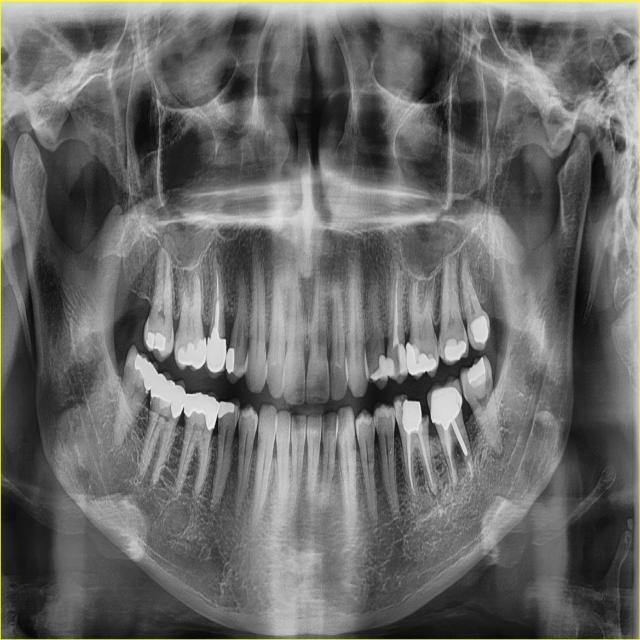Caries: (399, 394, 406, 409), (422, 415, 428, 424)
Crown: (427, 376, 463, 428), (205, 337, 227, 379)
Filling: (151, 374, 186, 419), (184, 392, 218, 430), (405, 342, 436, 374), (134, 352, 157, 393), (178, 338, 206, 368), (402, 399, 422, 432), (467, 357, 486, 388), (471, 315, 489, 344), (371, 355, 387, 387), (445, 338, 465, 361), (397, 343, 408, 376), (218, 401, 235, 419), (224, 347, 234, 373), (210, 326, 219, 354), (154, 330, 165, 351), (386, 356, 395, 377), (145, 330, 154, 350)
Root Canal Treatment: (417, 422, 434, 486), (406, 432, 416, 493), (443, 427, 454, 482), (392, 268, 398, 348), (467, 461, 472, 478), (217, 269, 219, 299)
